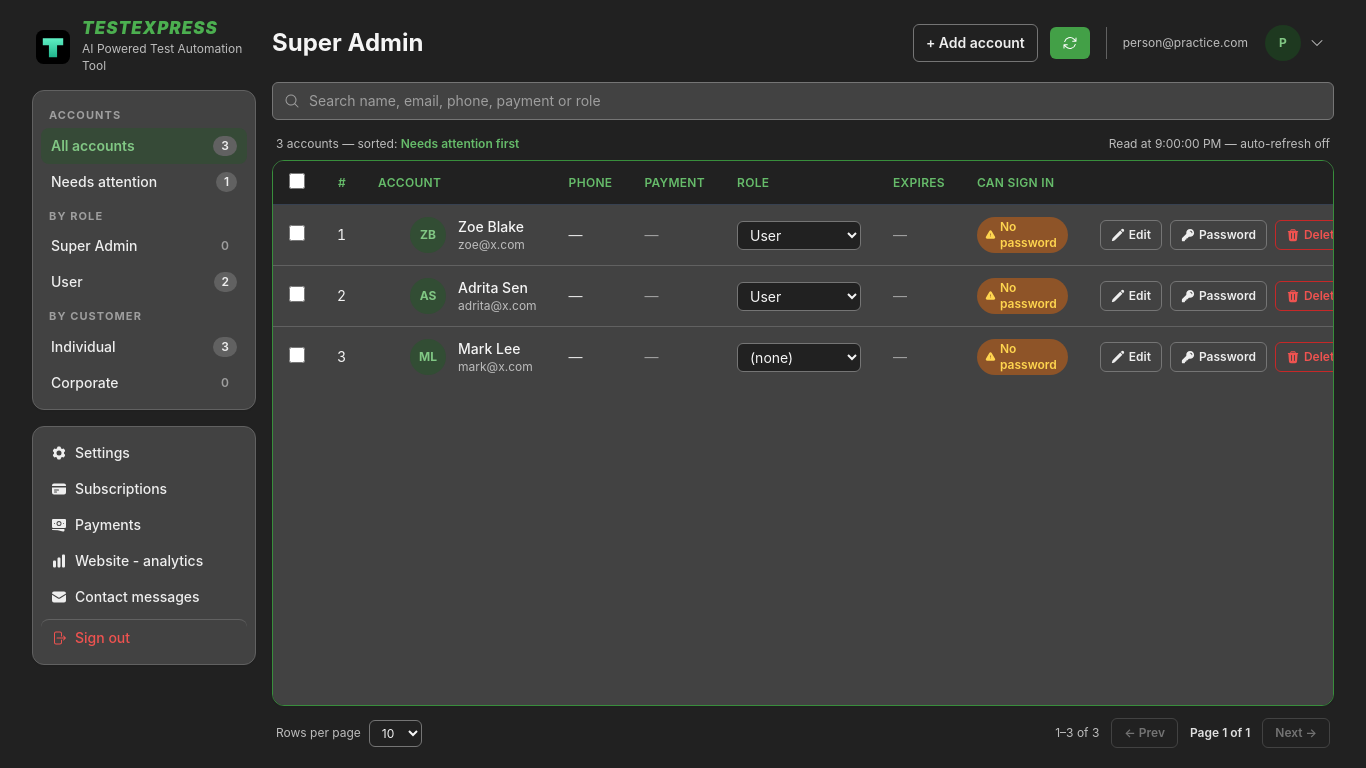
Test: theme › the hint reads back what Auto currently means
Expected: the table is shown, [273,161,1334,387]
Click the button "Settings" at (144,452), box [41,434,247,470]
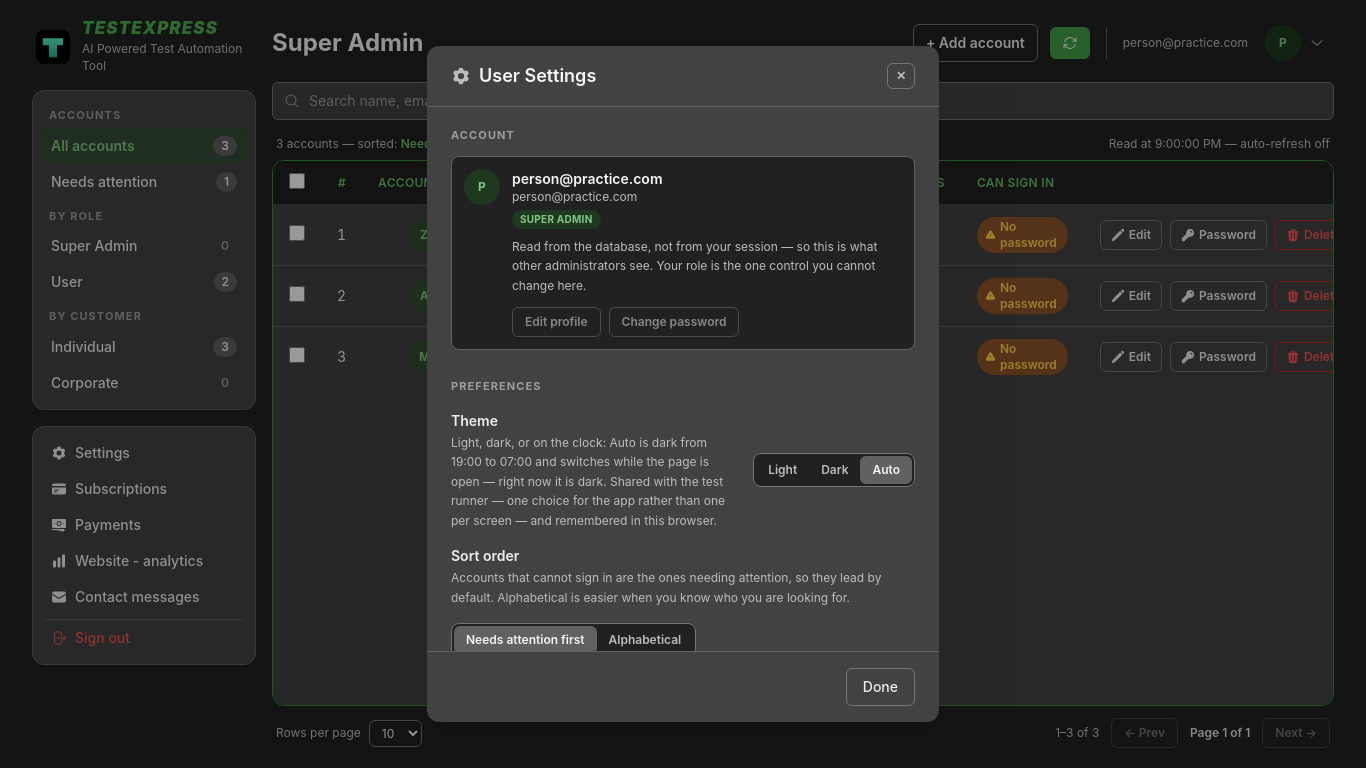
Expected: the text "dark from 19:00 to 07:00" shows "right now it is dark", [451,435,725,528]
